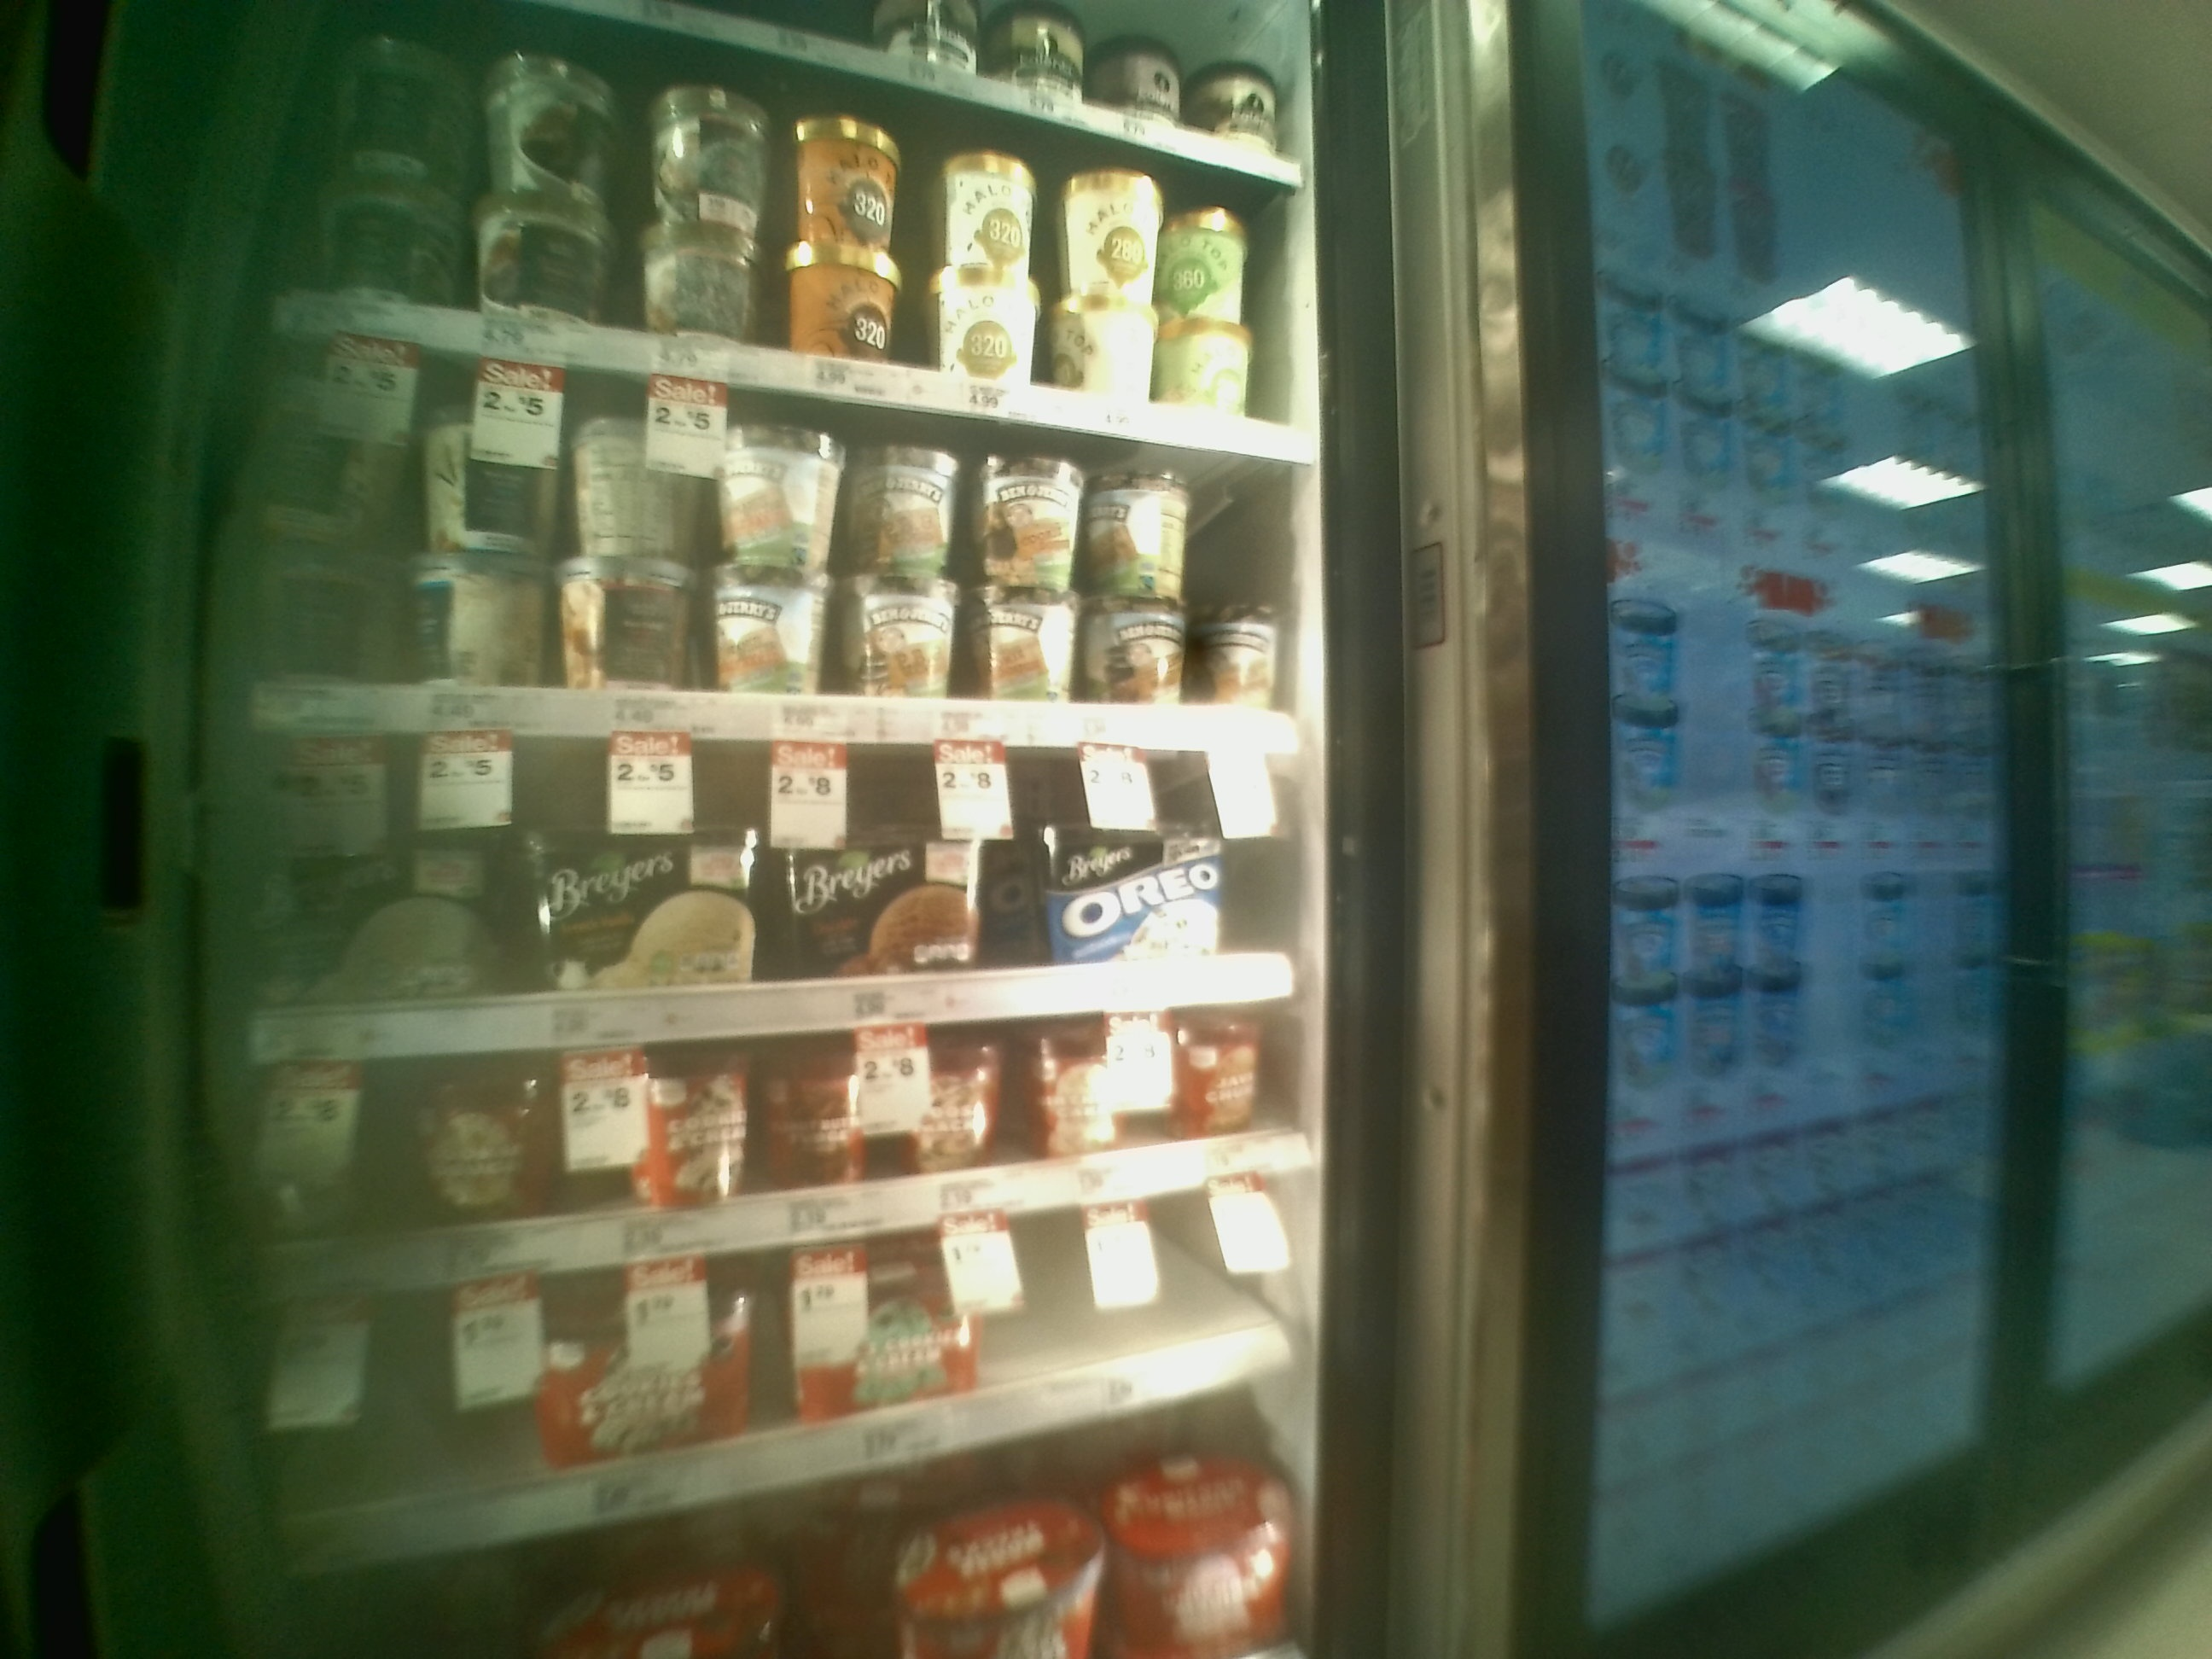shelf: (239, 324, 1318, 742), (239, 734, 1339, 1060)
